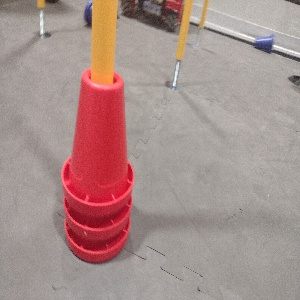Blue_1: (254, 30, 274, 54)
Red_3: (60, 64, 133, 262)
